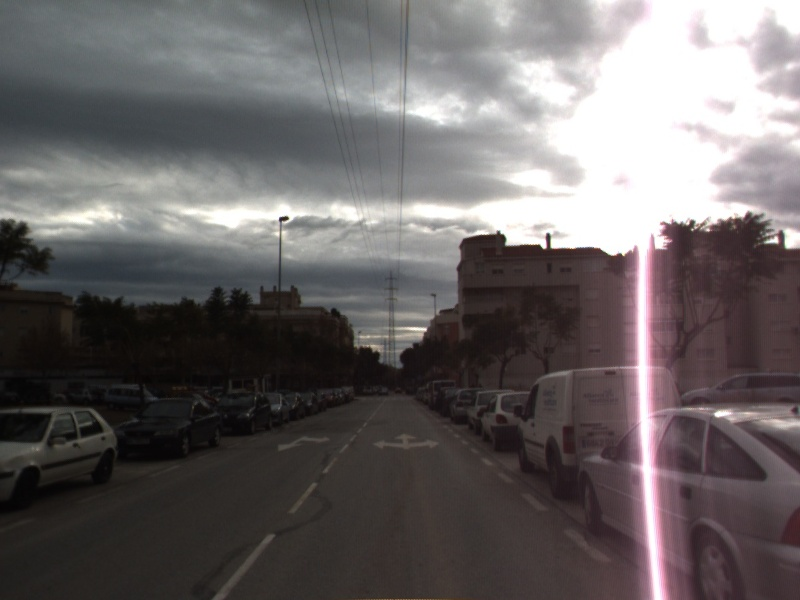STRAIGHT_LEFT_RIGHT: (370, 431, 442, 451)
